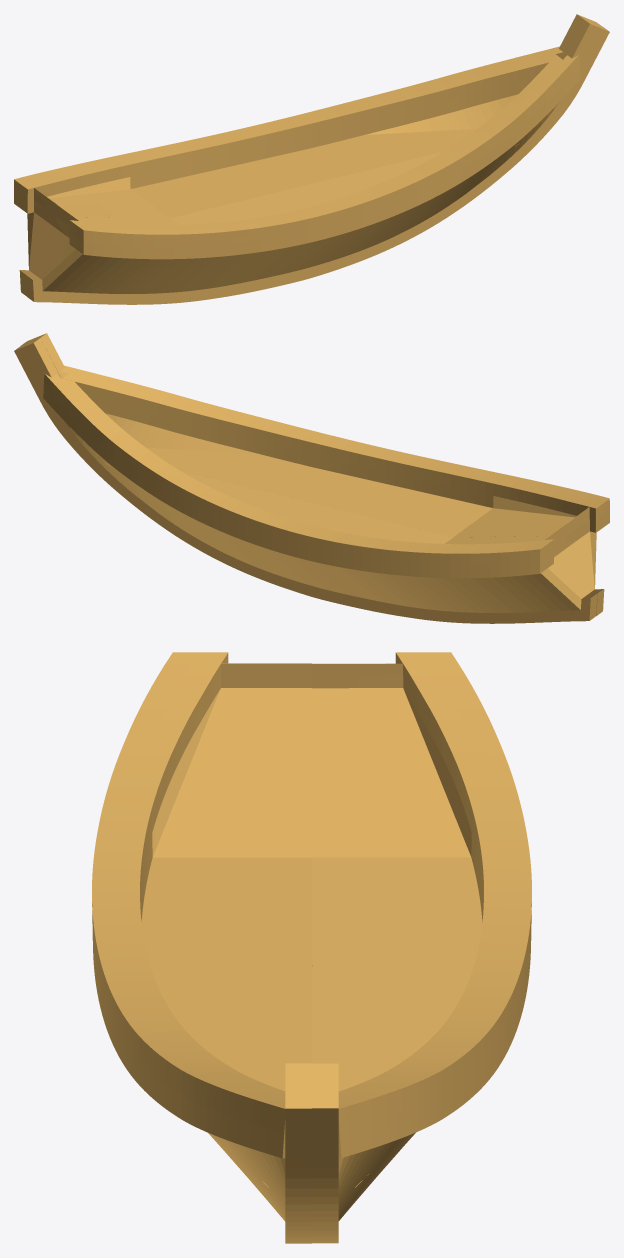
Rendered from boat.fbx.
The picture shows the model from 3 angles, top to bottom: view 1: azimuth 30°, elevation 25°; view 2: azimuth 150°, elevation 25°; view 3: azimuth 270°, elevation 25°; orthographic projection. The views are drawn at different scales.
Parts seen in each view (by area): view 1: boat.001; view 2: boat.001; view 3: boat.001.
Boxes of the visible parts, box(x1,y1,x2,y2) form: boat.001: box(14, 14, 609, 304); boat.001: box(14, 333, 609, 623); boat.001: box(92, 652, 531, 1243).
Size of the model in its own units: 263 by 246 by 798.
